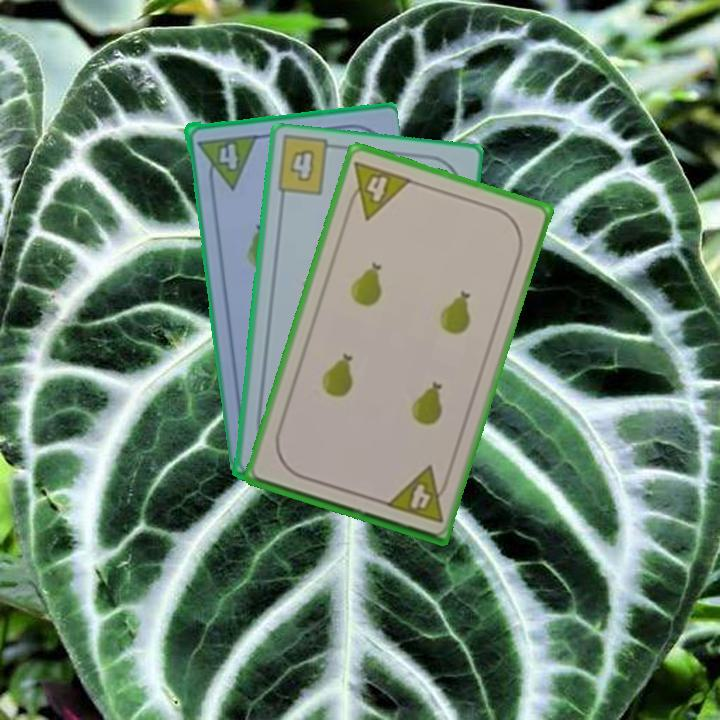4b: (286, 145, 317, 185)
4p: (341, 157, 415, 223), (382, 462, 453, 526), (193, 130, 258, 193)
